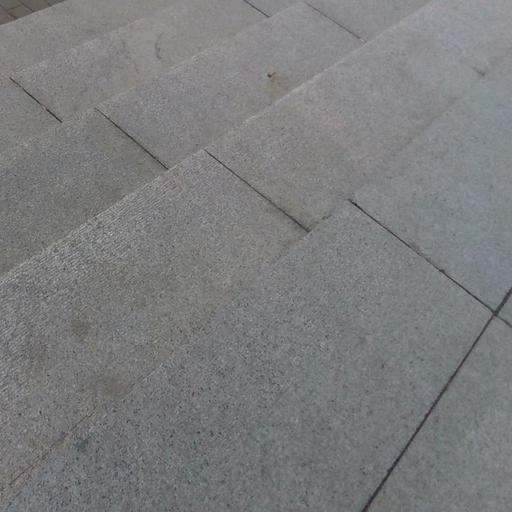stairs: (0, 0, 511, 510)
